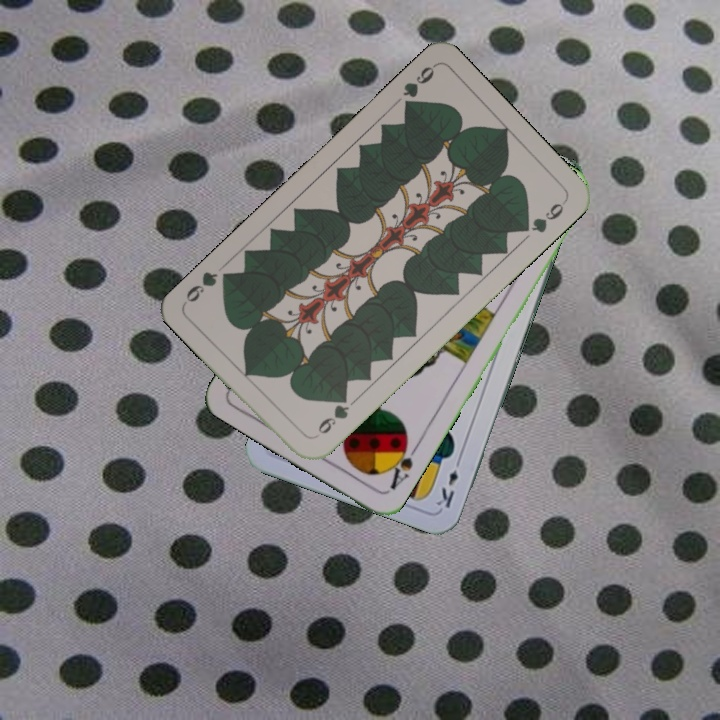EK: (432, 453, 465, 511)
G9: (309, 391, 352, 441), (398, 61, 438, 114)
SA: (382, 435, 421, 493)
